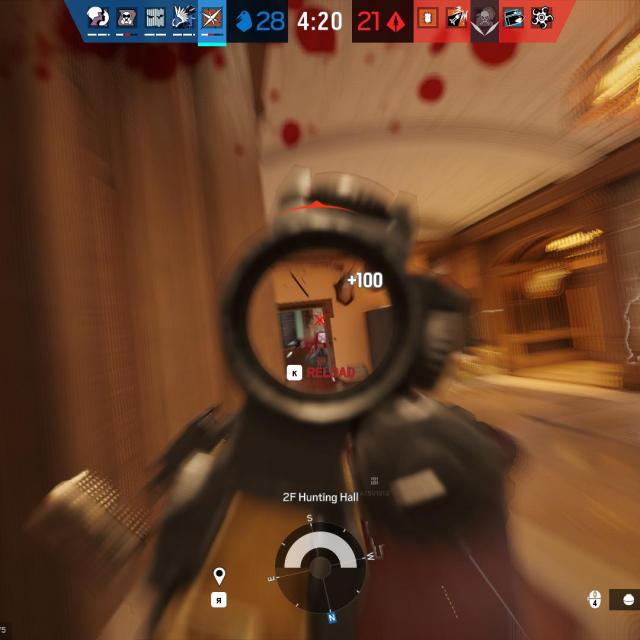Character: (305, 339, 329, 380)
Friend_label: (359, 475, 391, 496), (624, 271, 640, 292)
